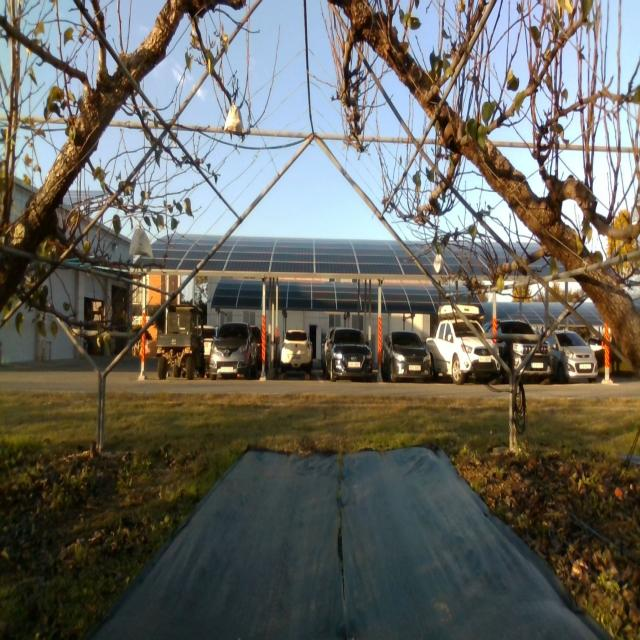pearbags: (129, 228, 153, 259), (224, 106, 245, 135), (433, 254, 444, 273)
